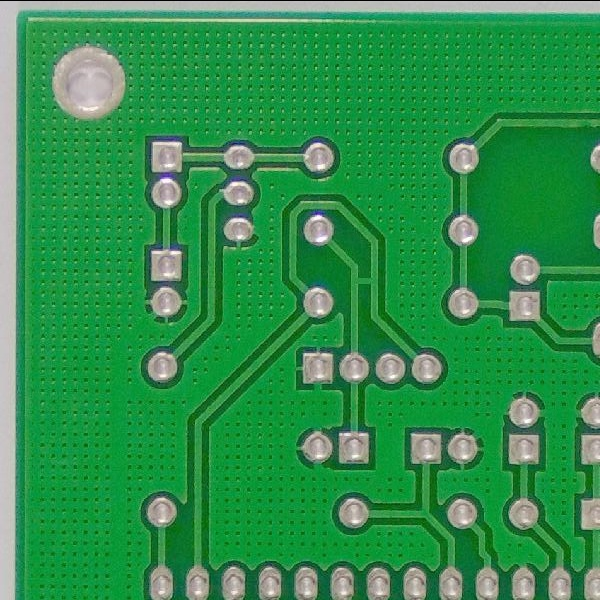short: (351, 262, 375, 298)
